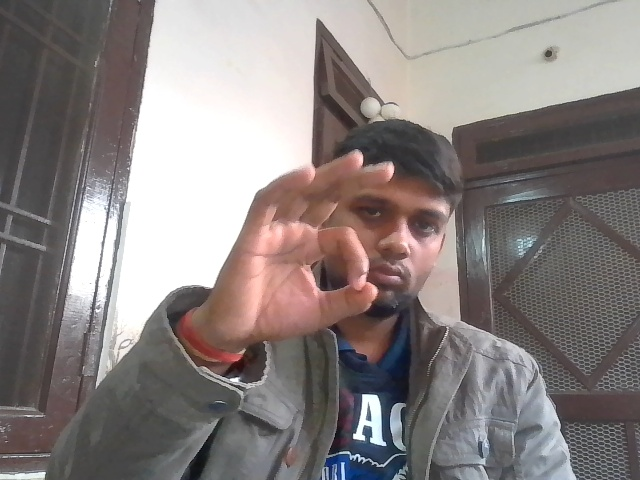Good: (210, 158, 395, 356)
